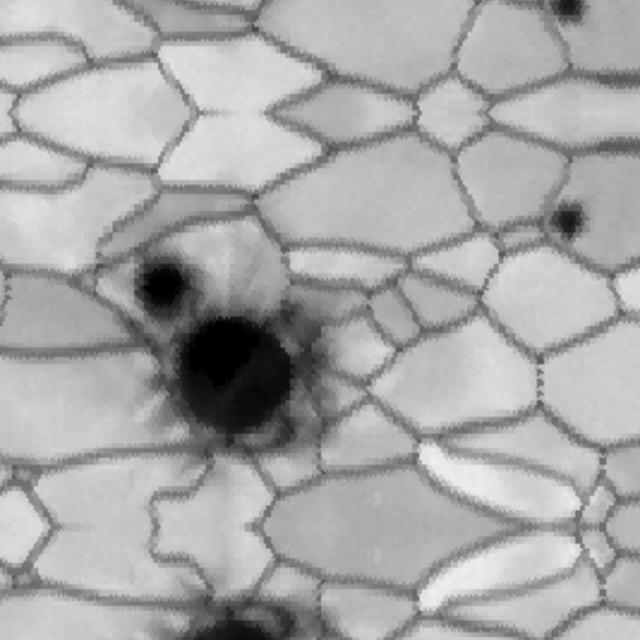good_void: (145, 289, 346, 459), (164, 594, 345, 640), (120, 241, 213, 327), (546, 190, 596, 253), (546, 0, 596, 34)
